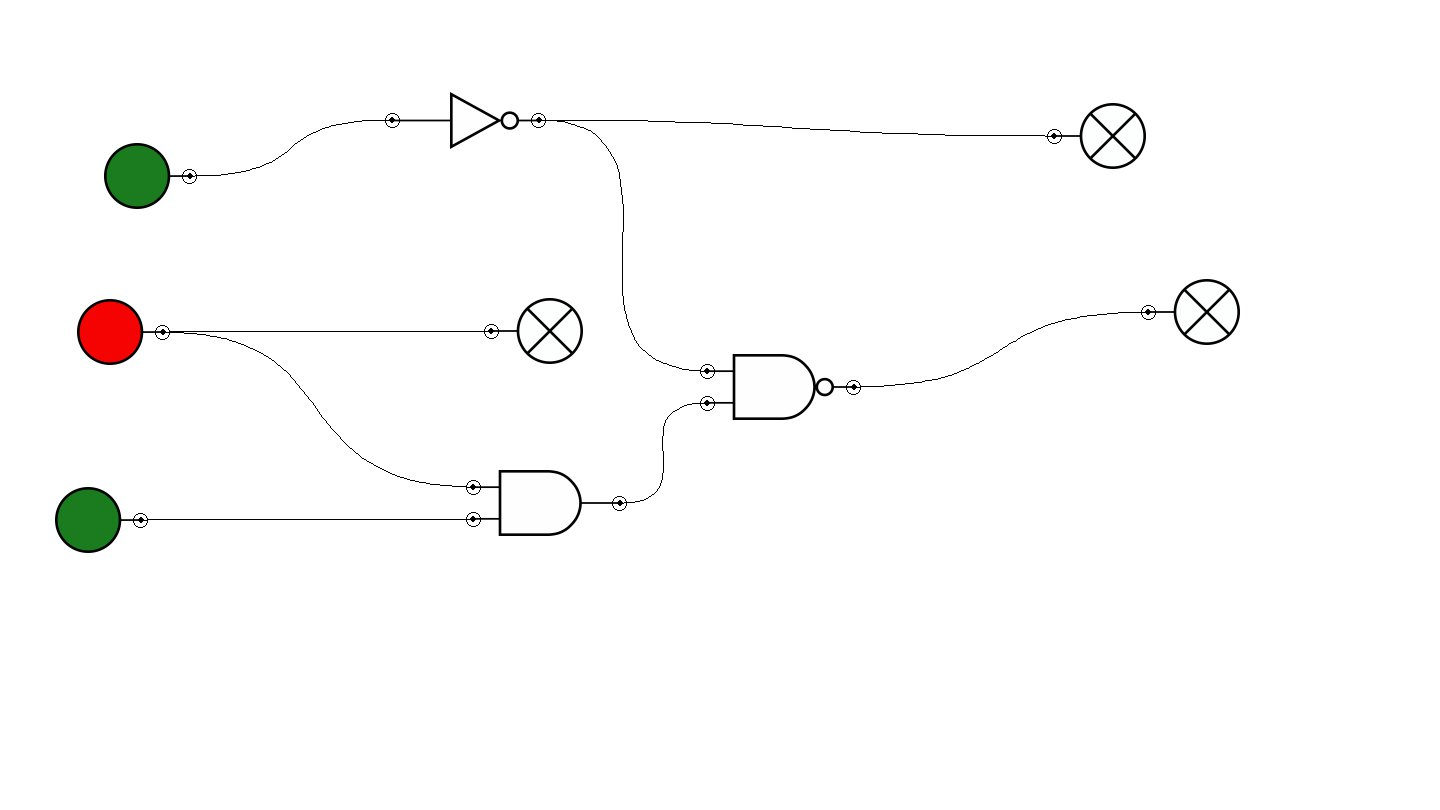and: (466, 470, 627, 536)
bulb: (1141, 279, 1240, 345), (1047, 103, 1146, 169), (484, 298, 583, 364)
nand: (700, 354, 861, 420)
not: (385, 92, 546, 149)
switch_False: (77, 299, 170, 365)
switch_True: (104, 143, 197, 209), (55, 487, 148, 553)
